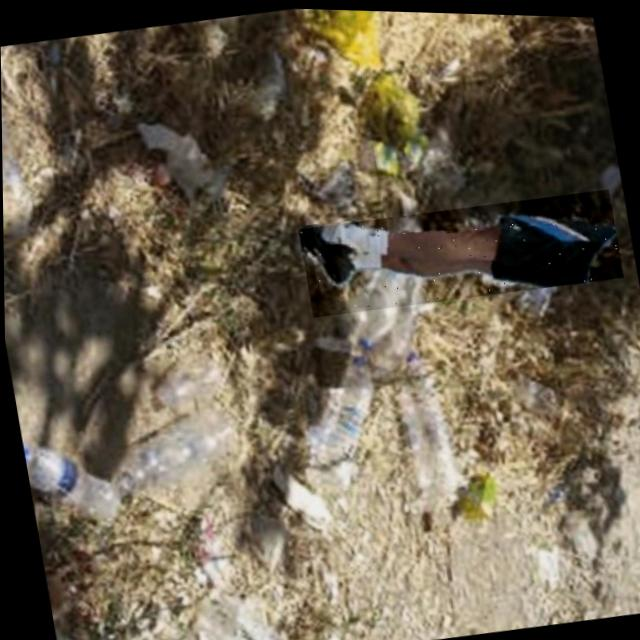Person in Rubble: (296, 178, 623, 323)
